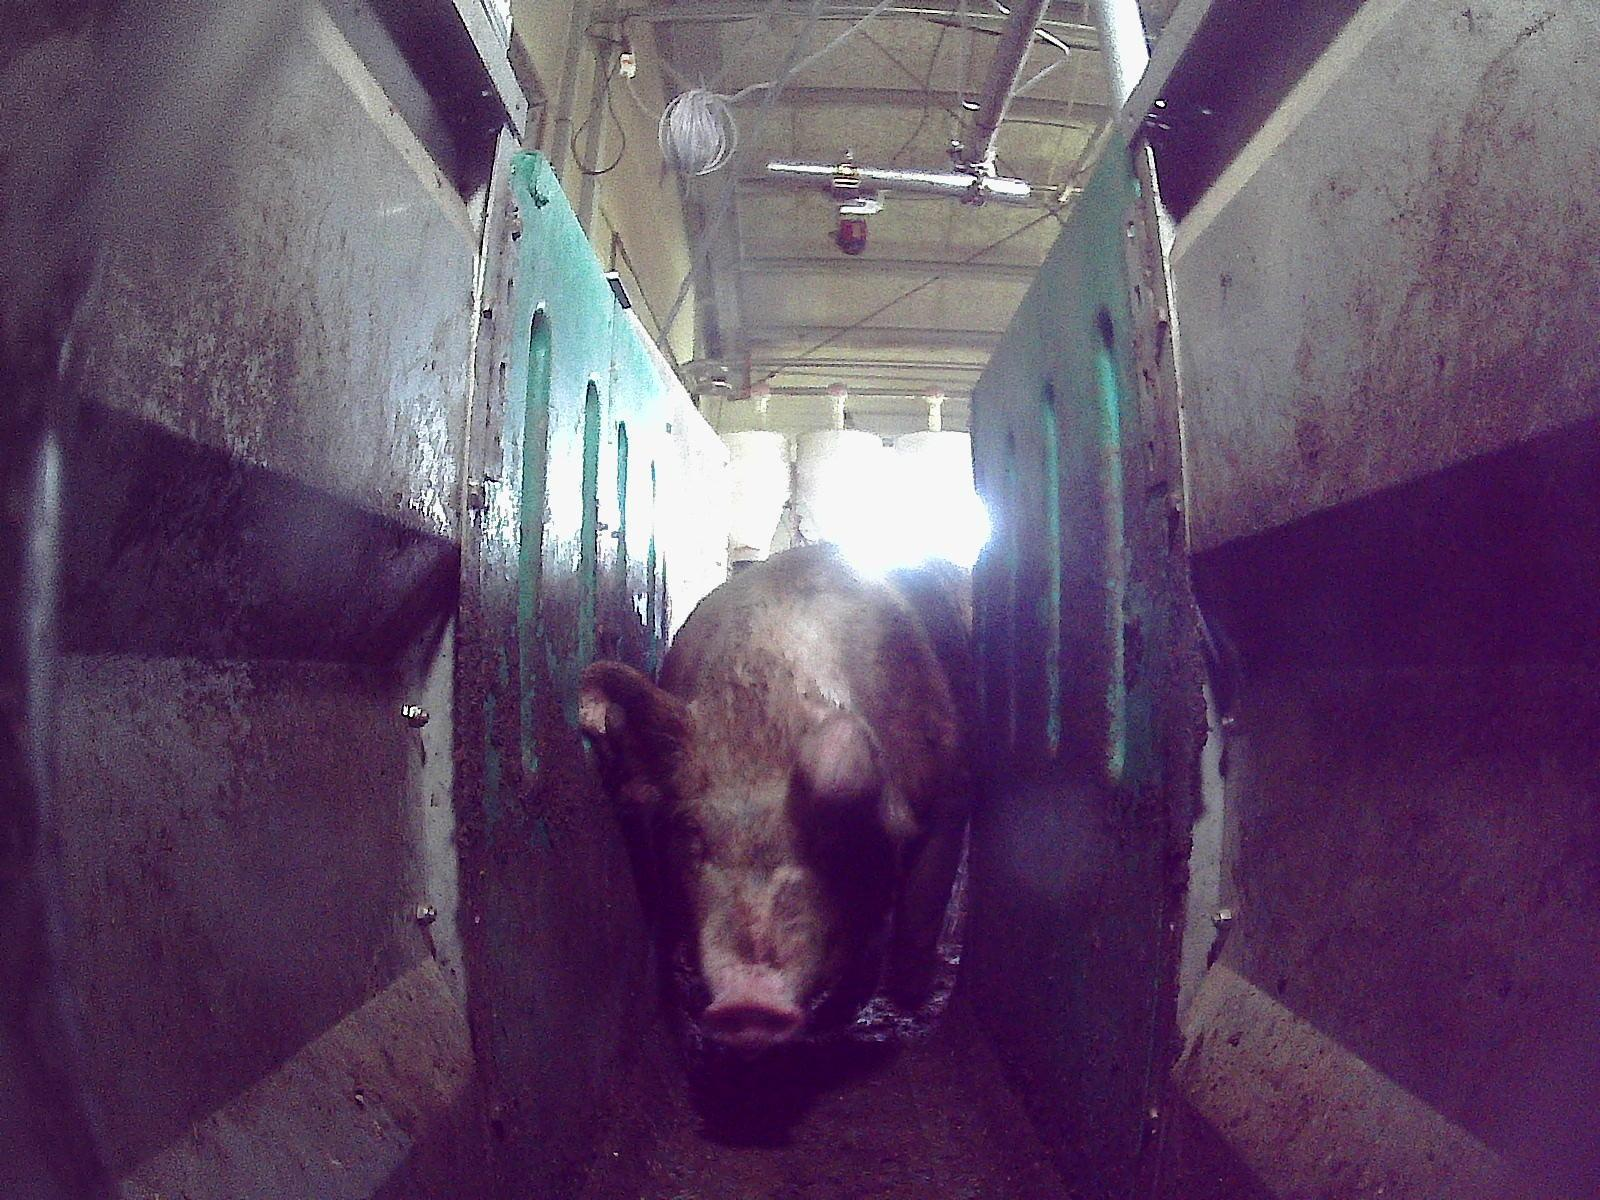Face: (668, 685, 904, 1053)
